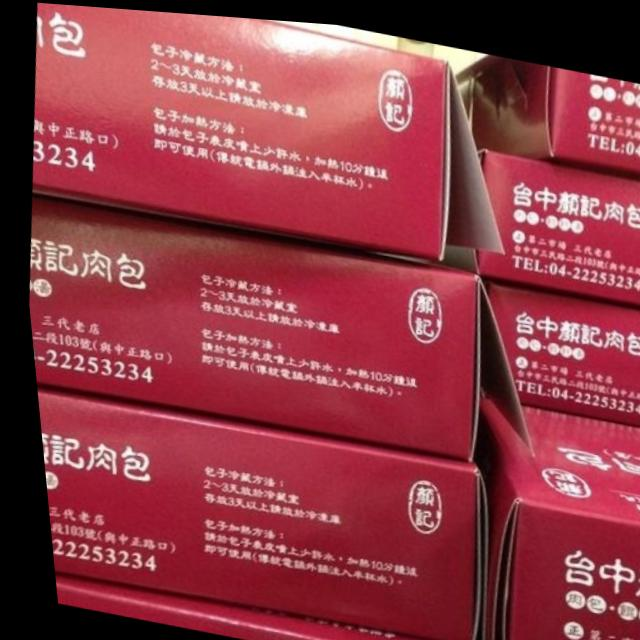box: (23, 192, 526, 454), (28, 2, 500, 256), (29, 385, 479, 640), (463, 392, 640, 640), (43, 573, 443, 640), (472, 142, 640, 297), (474, 268, 640, 419), (453, 47, 640, 168)
